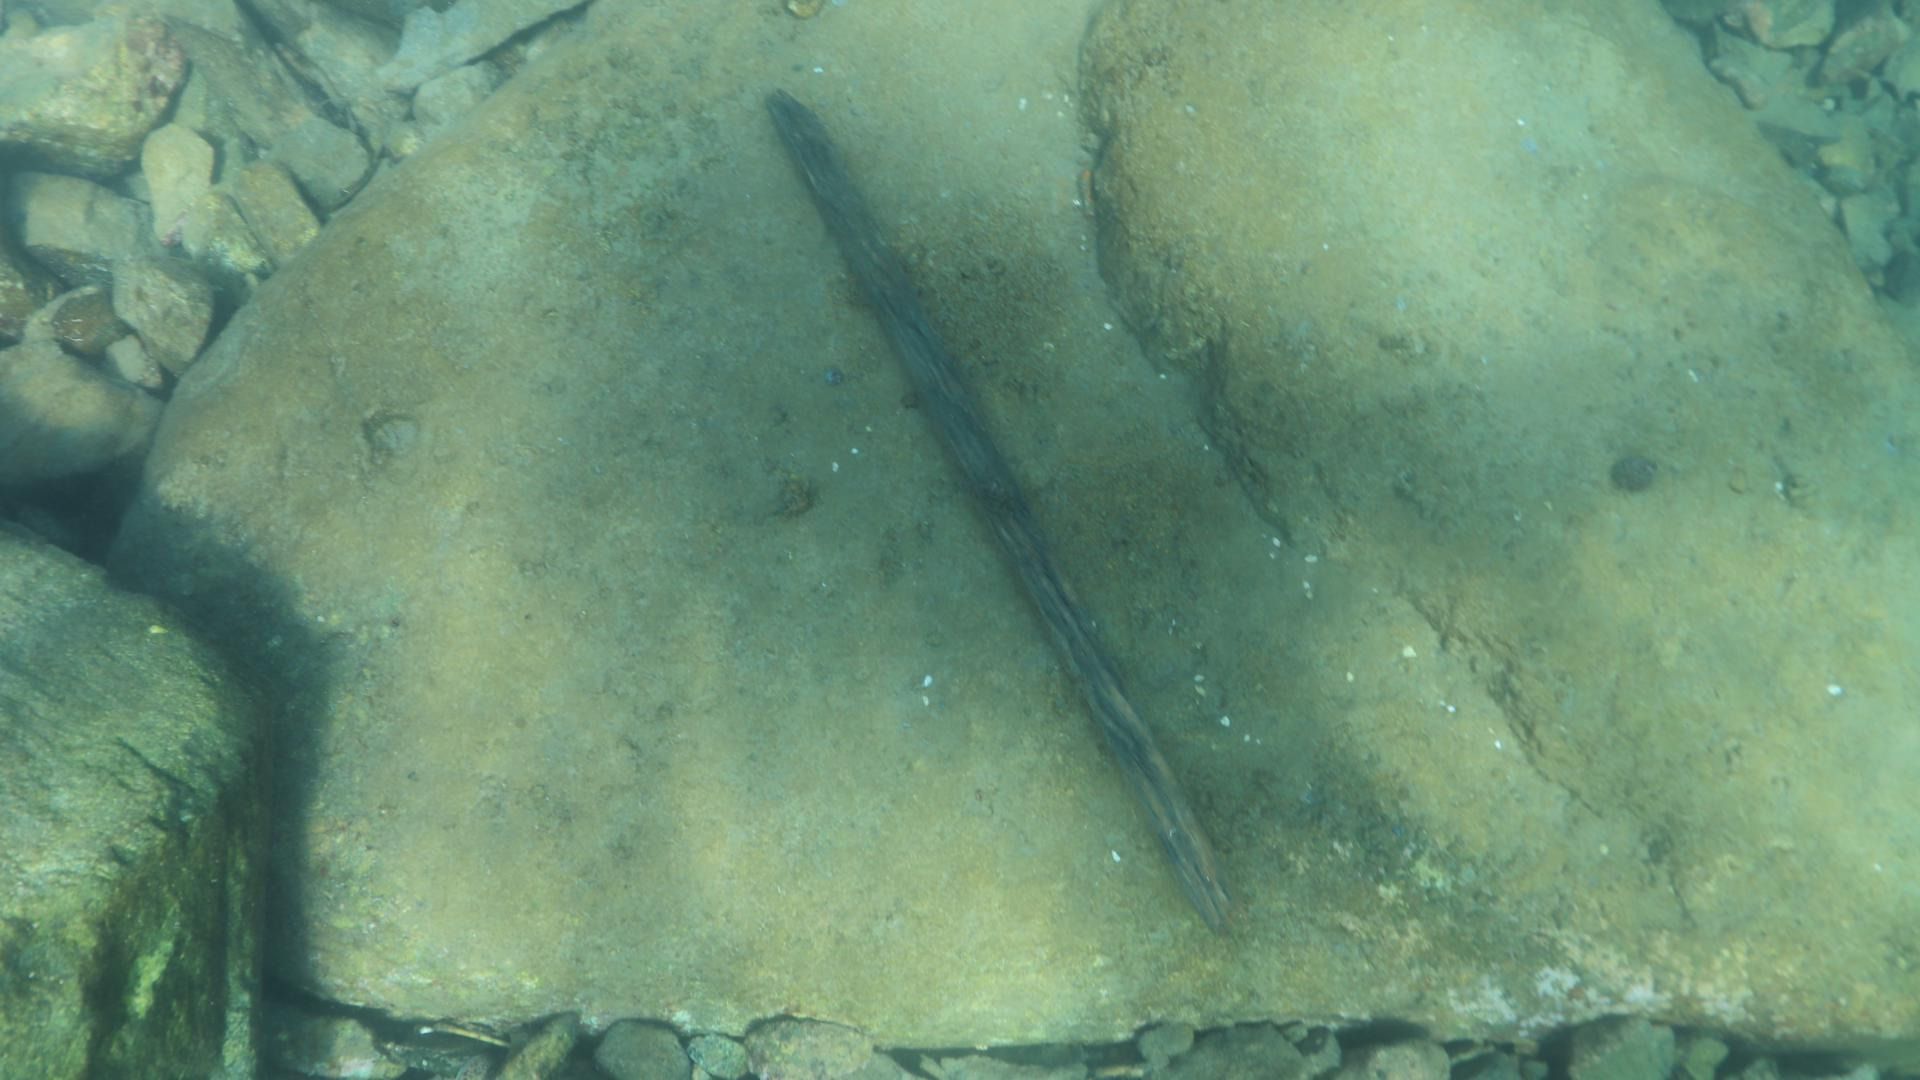wood: (761, 84, 1237, 934)
